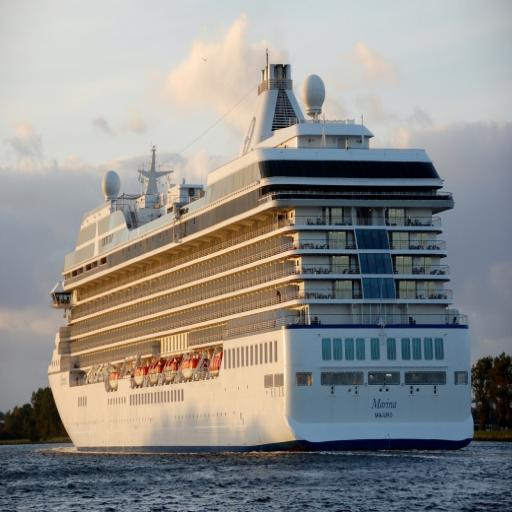cruises: (47, 56, 479, 458)
